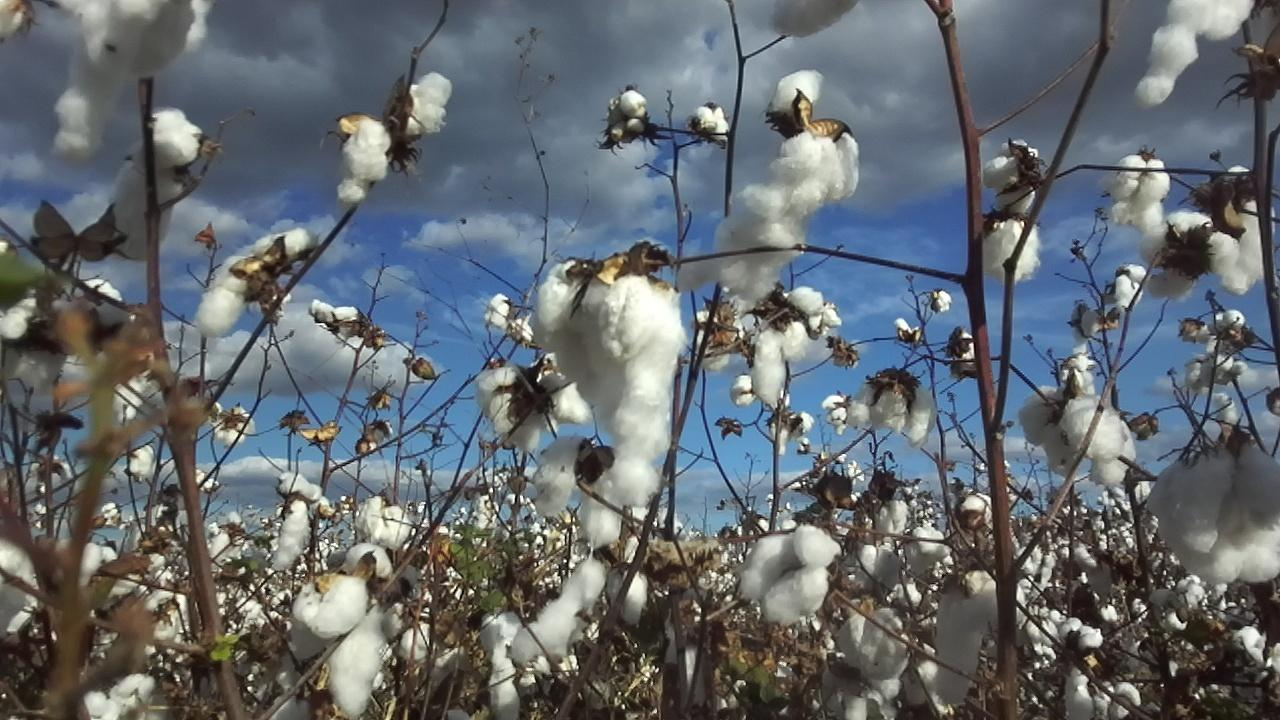cotton_ready: (674, 70, 860, 300), (532, 261, 687, 504), (52, 0, 208, 164), (1146, 447, 1280, 586), (296, 540, 397, 720), (509, 550, 648, 664), (340, 70, 452, 200), (933, 569, 1029, 710), (1135, 0, 1257, 107), (115, 110, 199, 262), (195, 226, 309, 335), (535, 439, 652, 545), (1018, 387, 1137, 485), (754, 287, 842, 405), (741, 524, 839, 626), (1139, 211, 1249, 299), (480, 367, 592, 451), (1221, 166, 1274, 284), (485, 617, 544, 720), (849, 378, 939, 444), (279, 472, 337, 574), (1102, 155, 1170, 237), (836, 610, 910, 679), (980, 139, 1042, 219), (56, 277, 129, 339), (0, 241, 40, 339), (984, 222, 1042, 285), (85, 672, 159, 720), (0, 542, 39, 630), (352, 495, 412, 546), (77, 544, 119, 590)
